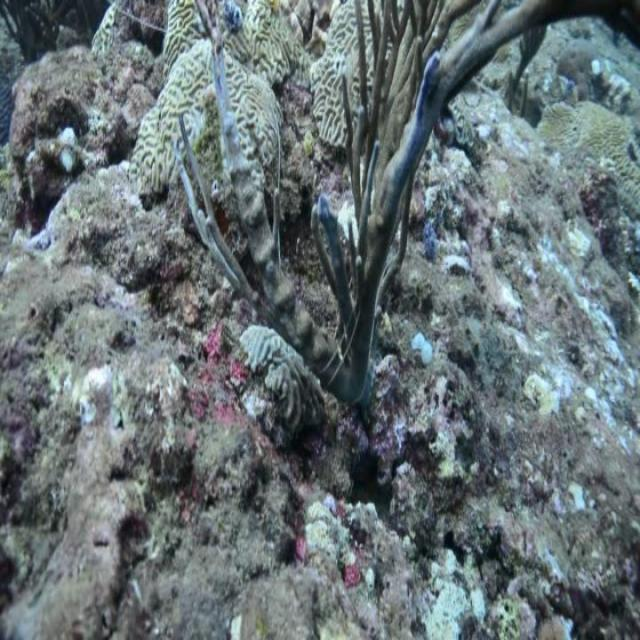Dead Coral: (173, 46, 560, 463)
